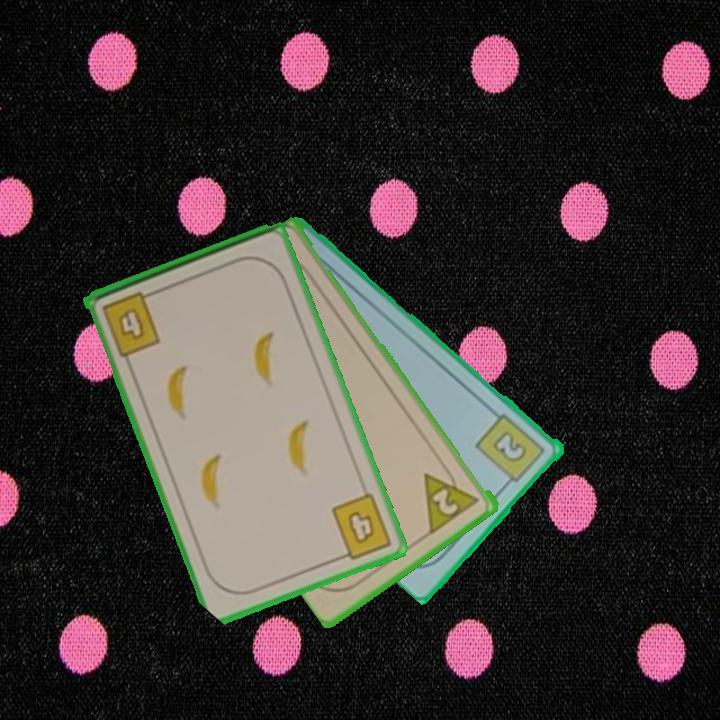2b: (472, 410, 549, 490)
2p: (429, 485, 462, 519)
4b: (328, 489, 396, 564), (98, 287, 164, 360)
